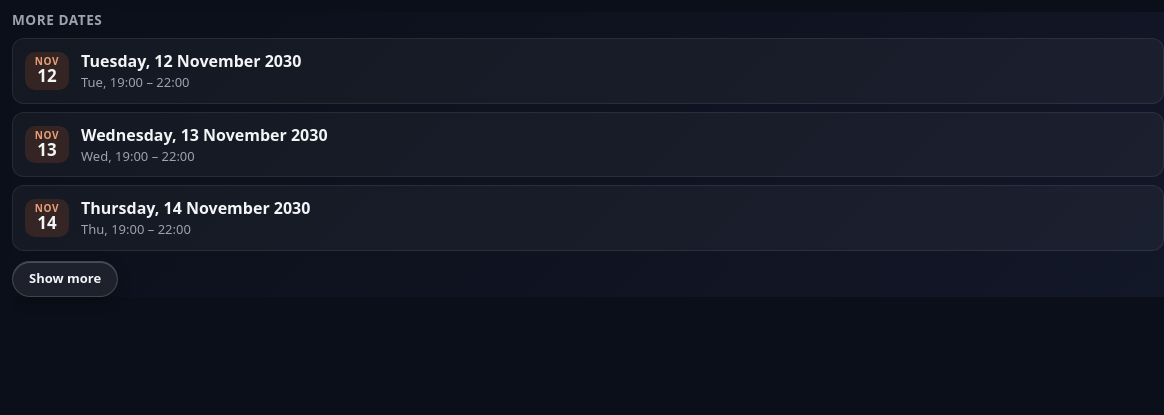
Test: shows three dates at first and the rest after "Show more"
Expected: the number of links is 3, [12,38,1163,104]; [12,112,1163,177]; [12,185,1163,251]
Click the button "Show more": (65, 279) [12,261,118,297]
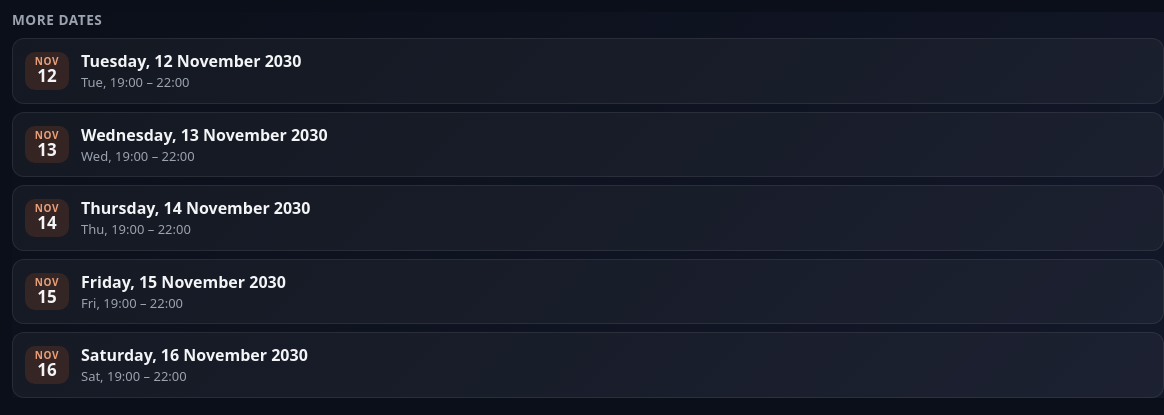
Result: the number of links is 5 at [12,38,1163,104]; [12,112,1163,177]; [12,185,1163,251]; [12,259,1163,324]; [12,332,1163,398]
Result: the button "Show more" is gone
